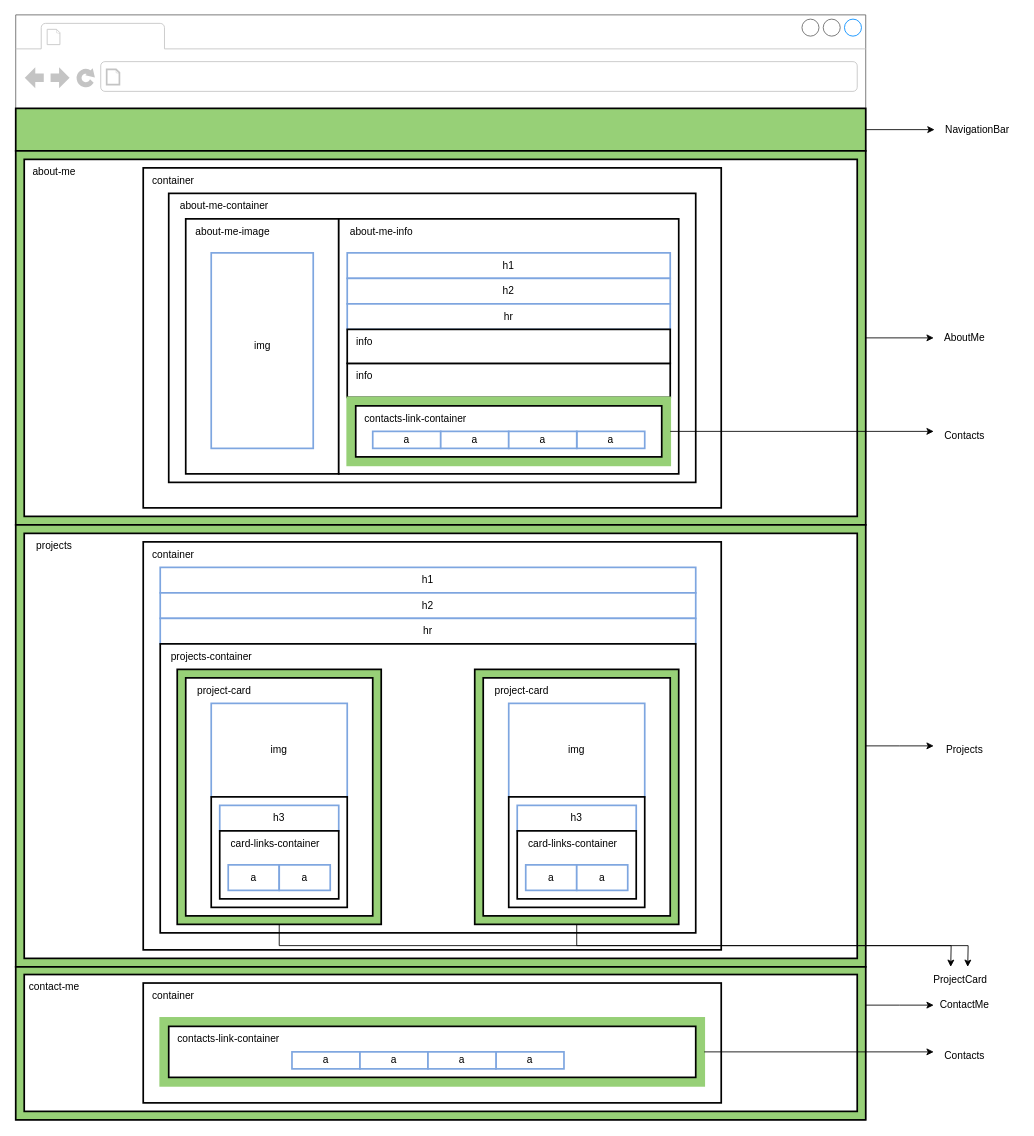
Image size: 1034x1136. Some labels were removed from this diagram. The shapes that lost their labels are listed below. From the top down, each one's centre as x and y in pixels, then its label:
At (x=113, y=35): "React Portfolio".
At (x=232, y=76): "https://www.my-react-portfolio.com".
At (x=440, y=129): "NavBar from Bootstrap".
